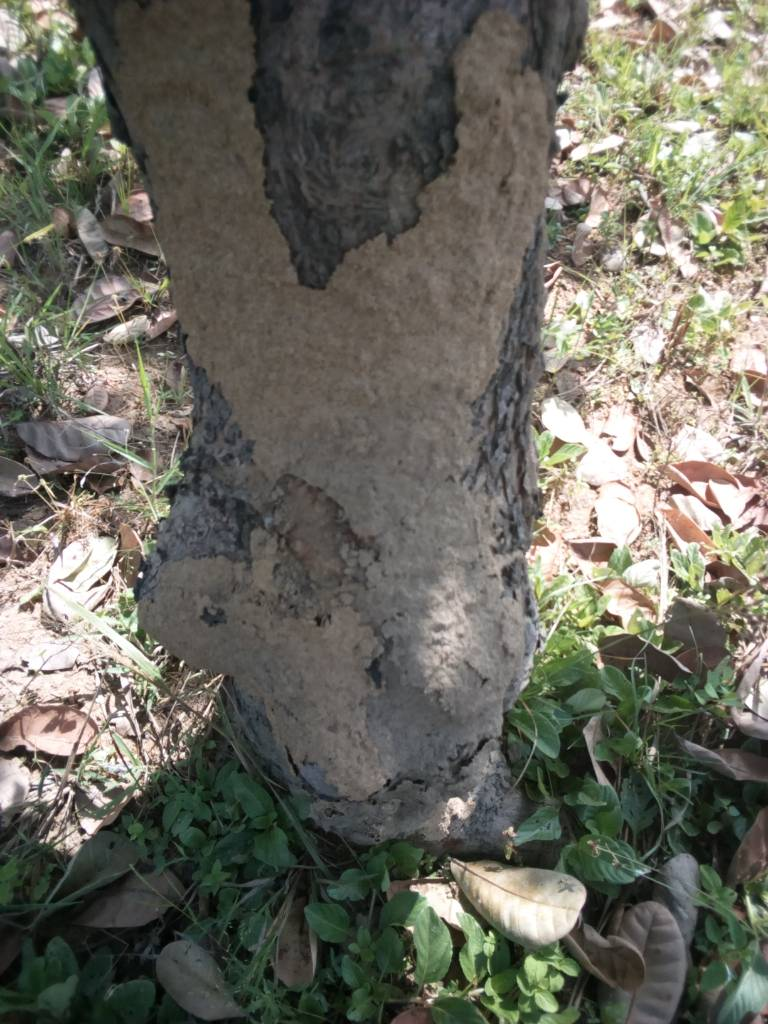Virose: (69, 6, 619, 541), (128, 558, 573, 839)
